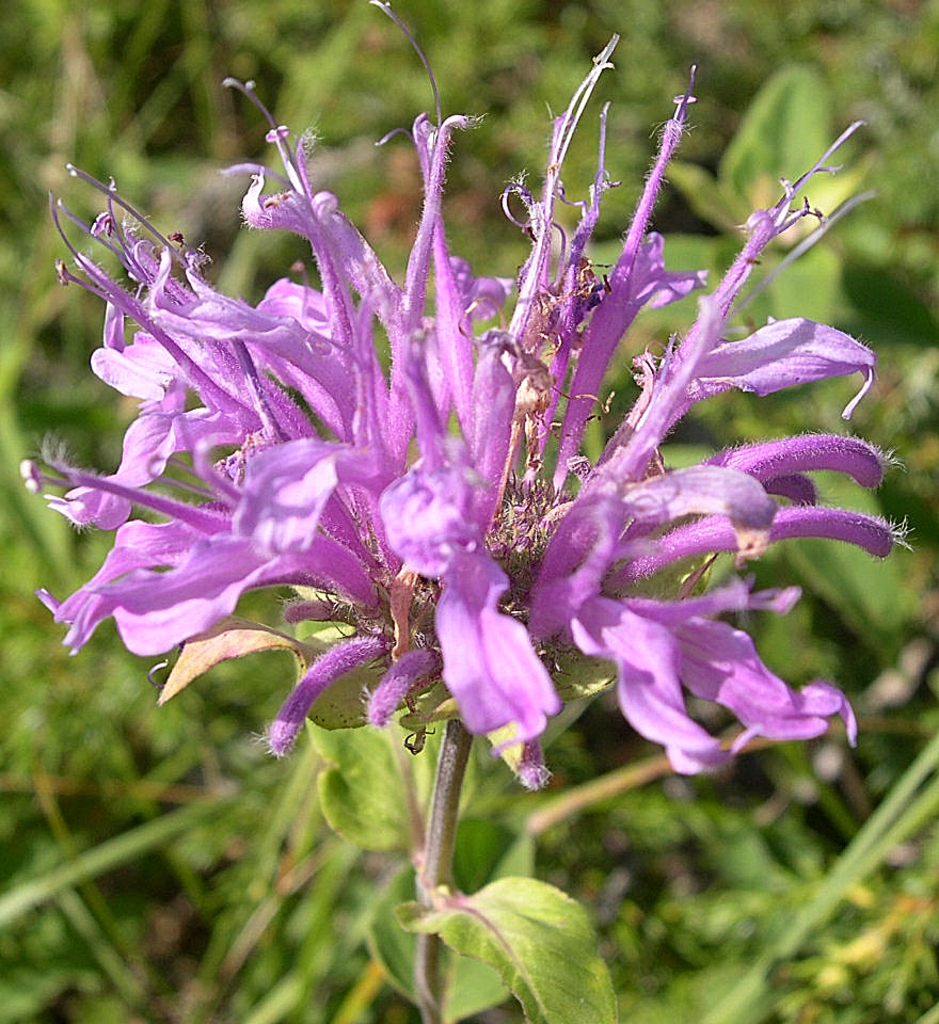person: (359, 134, 480, 246)
